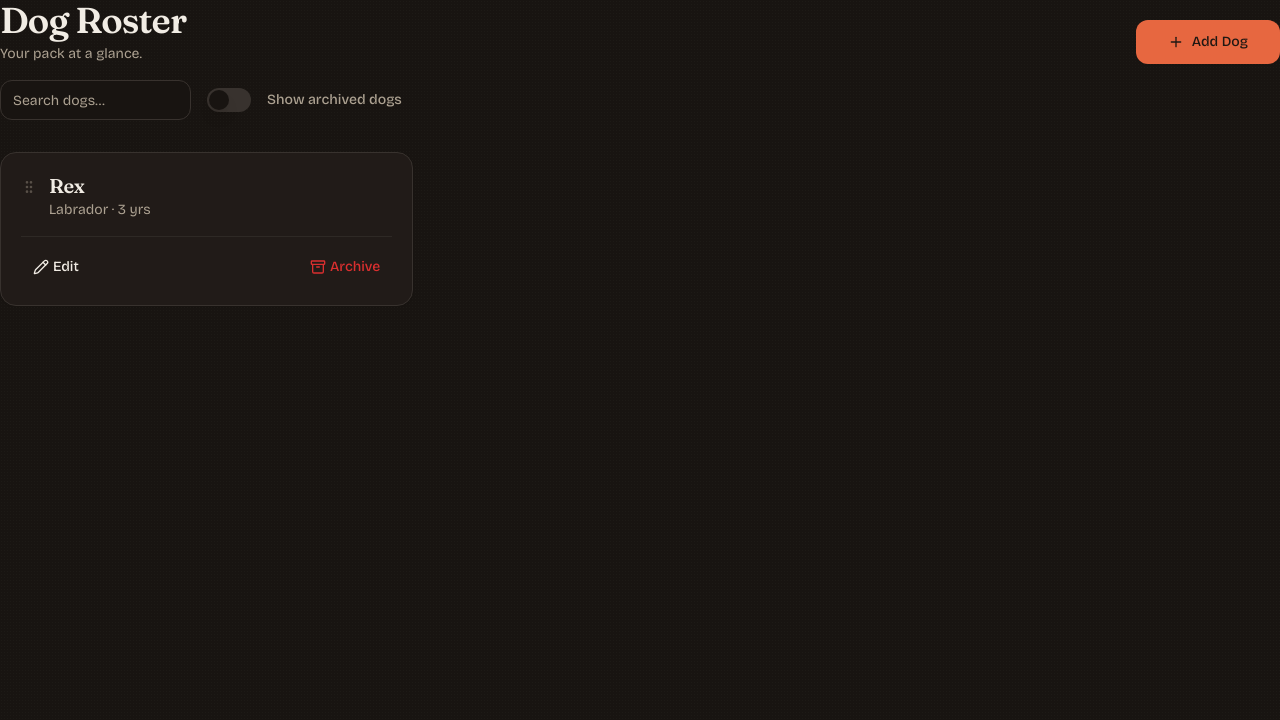
Test: DogRoster - Edit flow › clicking "Edit" on a card opens panel with title "Edit Dog"
Click the button "Edit".
click(56, 267)  # box [21,249,91,285]
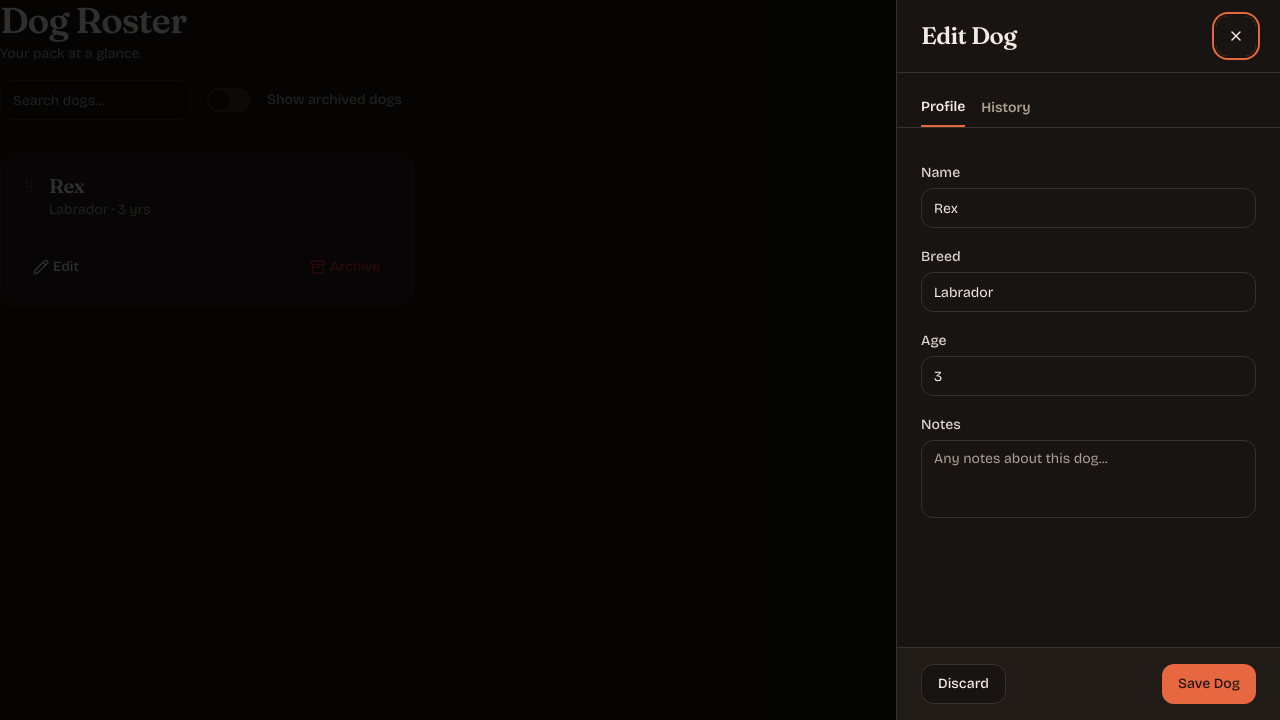
Check: the heading "Edit Dog" is shown, box [921,20,1016,52]
